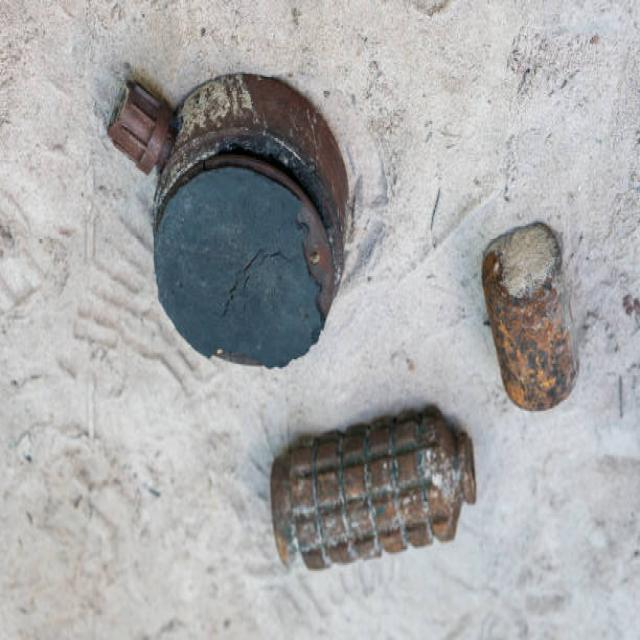grenade: (263, 404, 486, 579)
